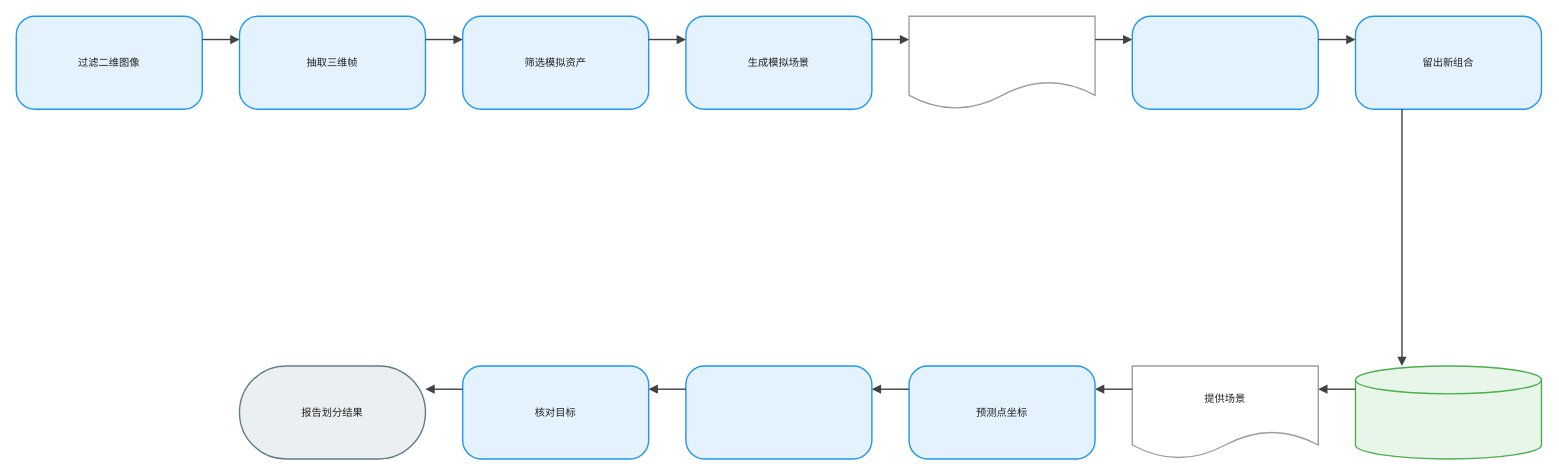
Some shapes in this 1559 by 476 pixel diagram are drawn without their labels. The box of each missing label's shape, as (x1, y1, x2, y2) in pixels:
封装基准: (1354, 365, 1542, 459)
组合推理链: (1131, 15, 1319, 110)
编写空间关系: (908, 15, 1095, 110)
解析坐标: (685, 365, 872, 459)
